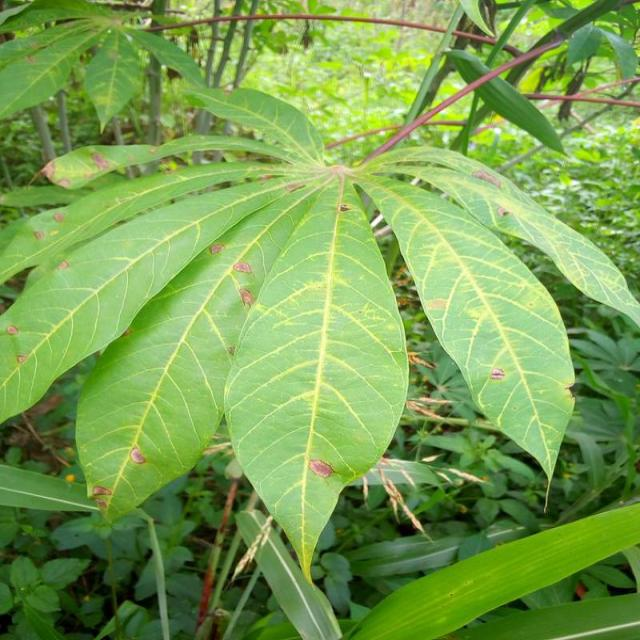cassava leaf: (0, 77, 638, 583), (74, 171, 326, 524), (222, 170, 410, 584), (352, 167, 577, 512)
